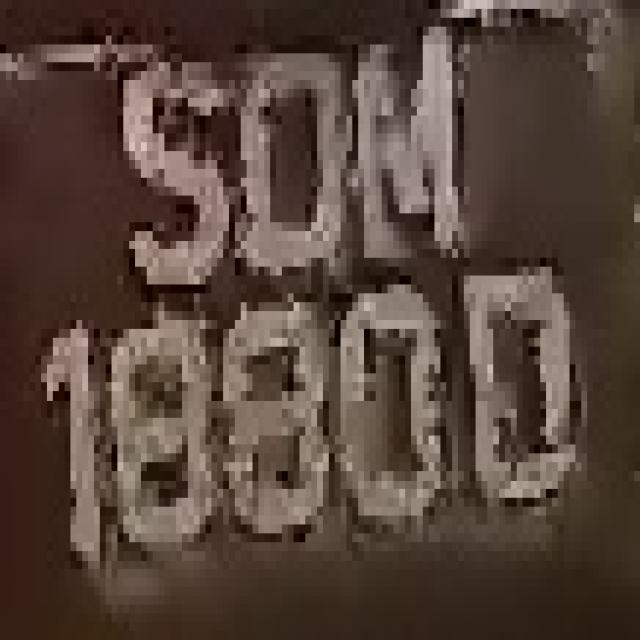0: (329, 276, 446, 524)
1: (35, 320, 112, 569)
8: (112, 302, 217, 569), (211, 284, 317, 542)
D: (446, 231, 576, 507), (223, 18, 347, 284)
M: (340, 27, 464, 293)
S: (117, 27, 229, 293)
